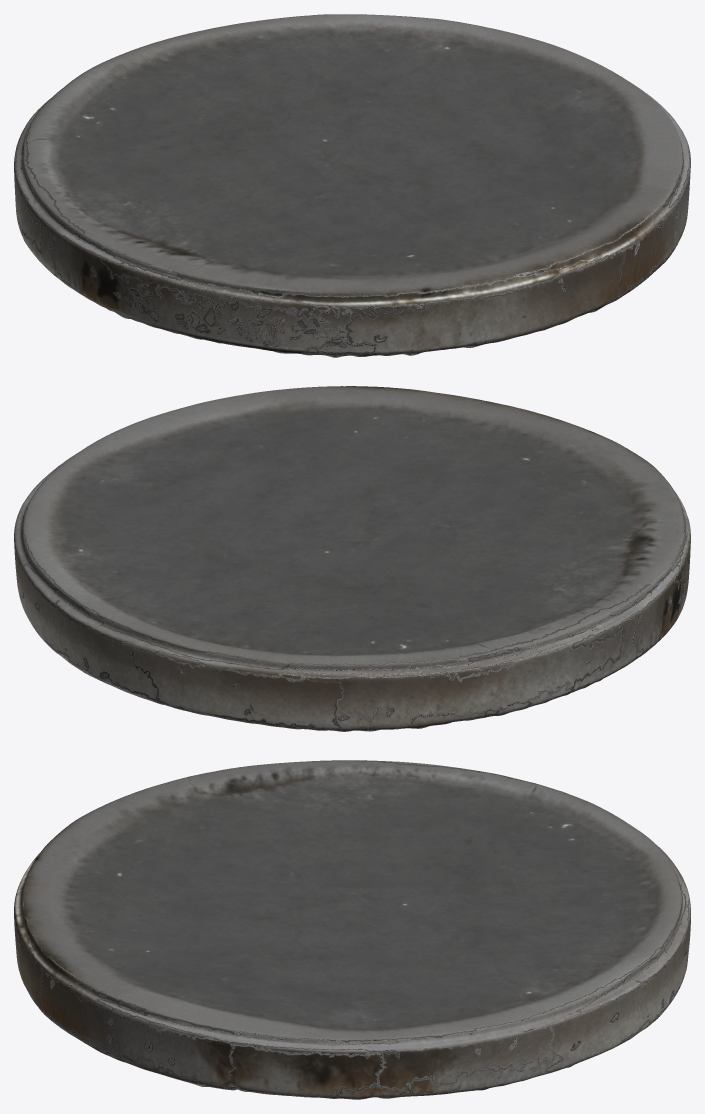
The picture shows the model from 3 angles, top to bottom: view 1: azimuth 30°, elevation 25°; view 2: azimuth 150°, elevation 25°; view 3: azimuth 270°, elevation 25°; orthographic projection.
Bounding box in the file's own units: 1.98 × 0.2252 × 1.98.
Materials: 1 (1 with a texture image).
